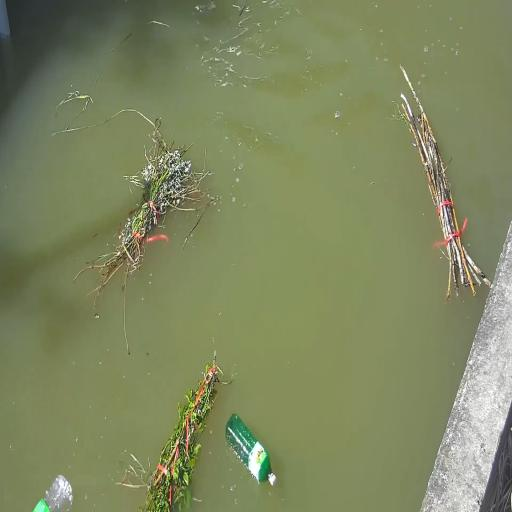plastic: (226, 411, 279, 494), (32, 463, 82, 512)
twig: (389, 60, 493, 288), (97, 133, 196, 288), (144, 344, 224, 512)
